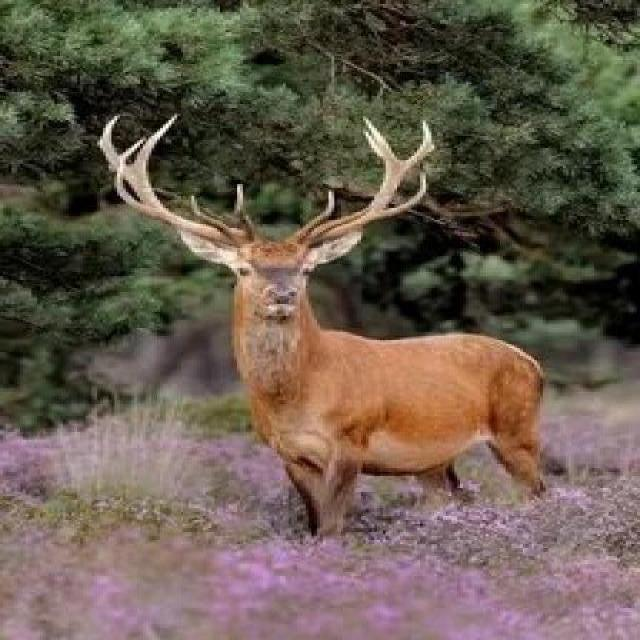deer: (49, 64, 566, 591)
